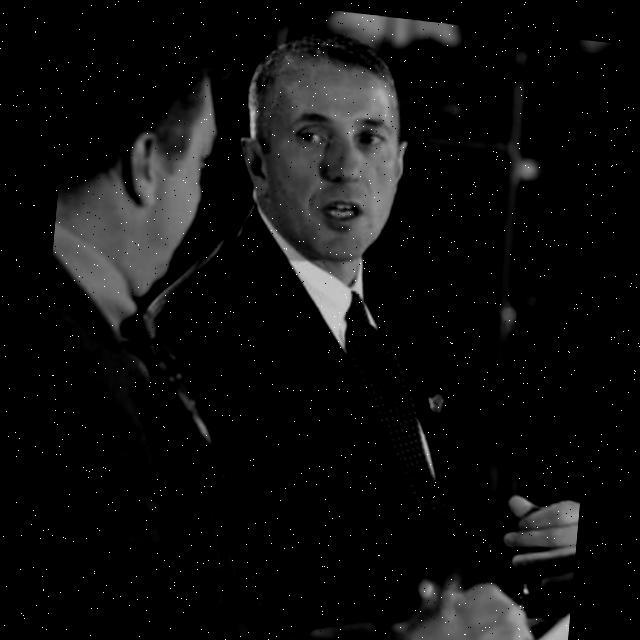face: (66, 52, 241, 305), (254, 47, 417, 271)
